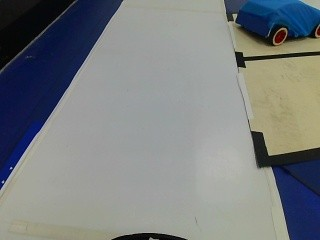car: (225, 0, 318, 48)
